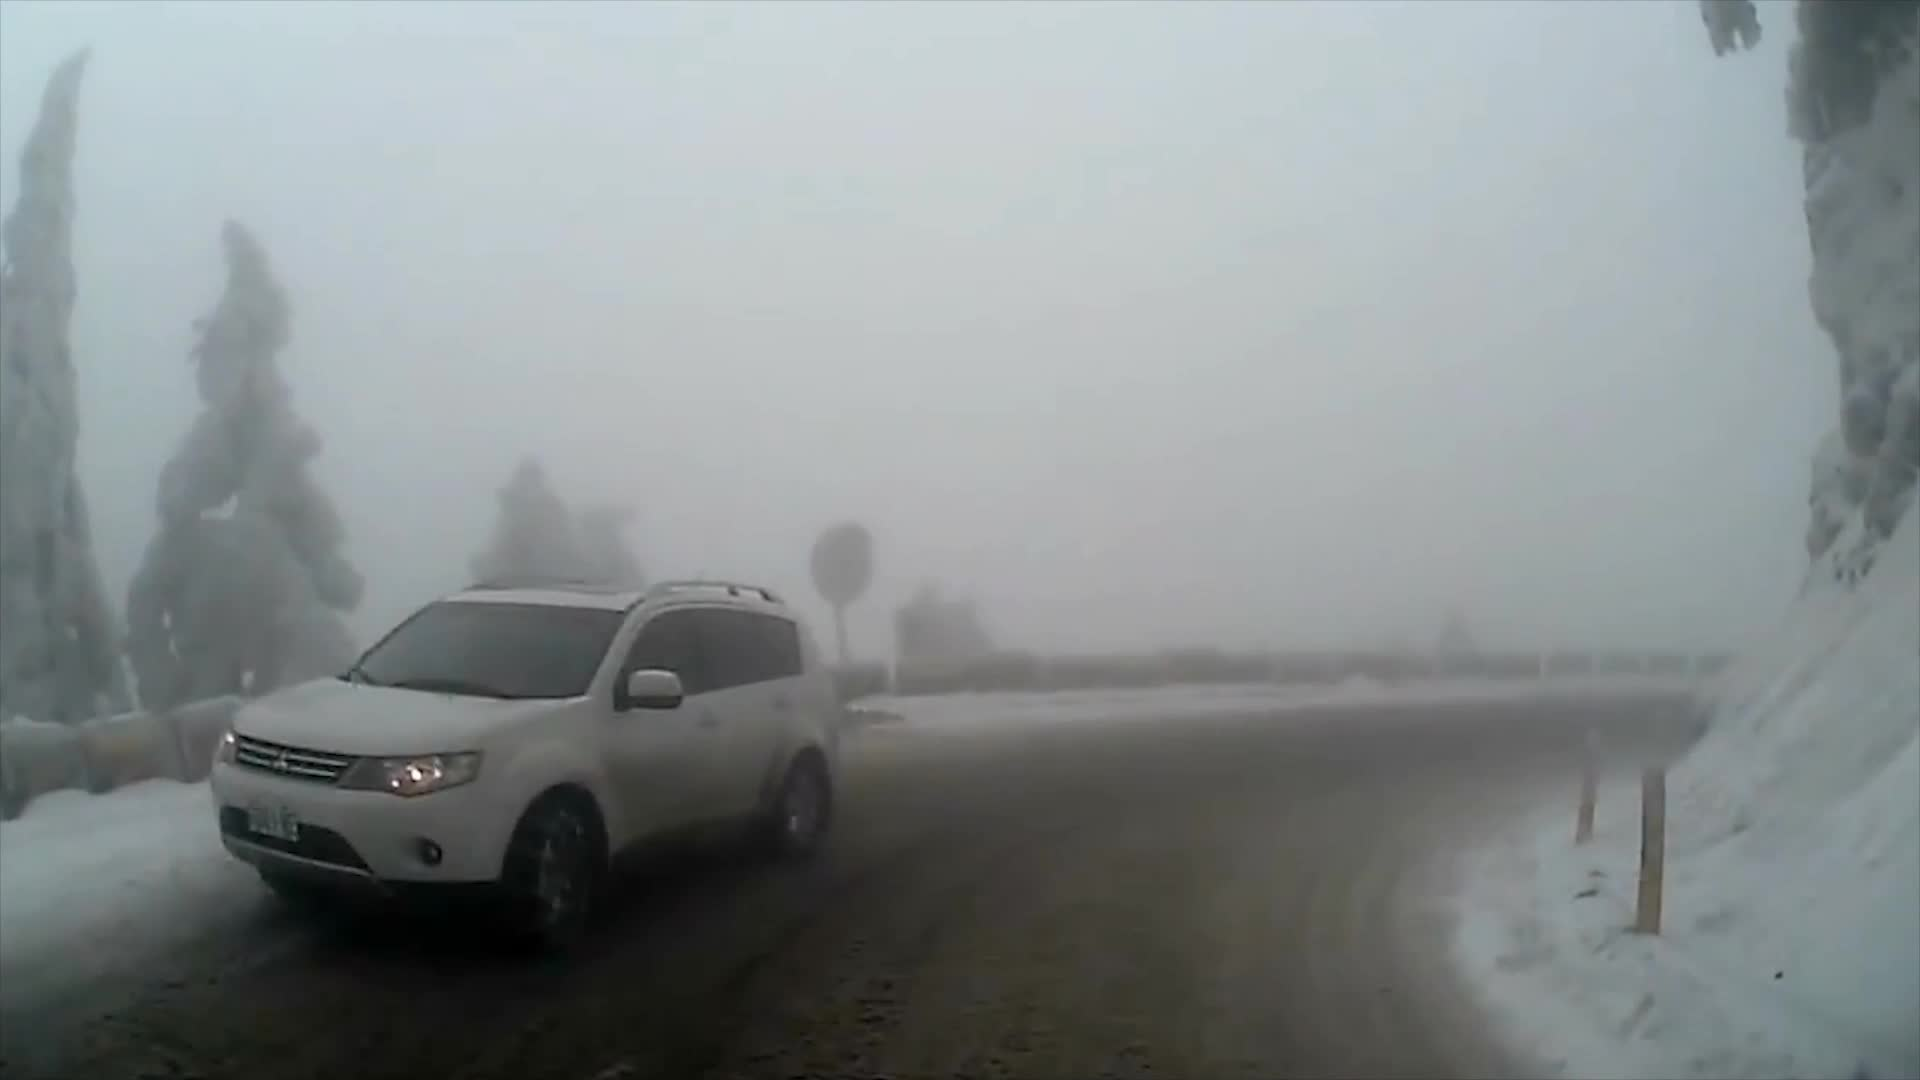vehicle: (206, 574, 840, 945)
